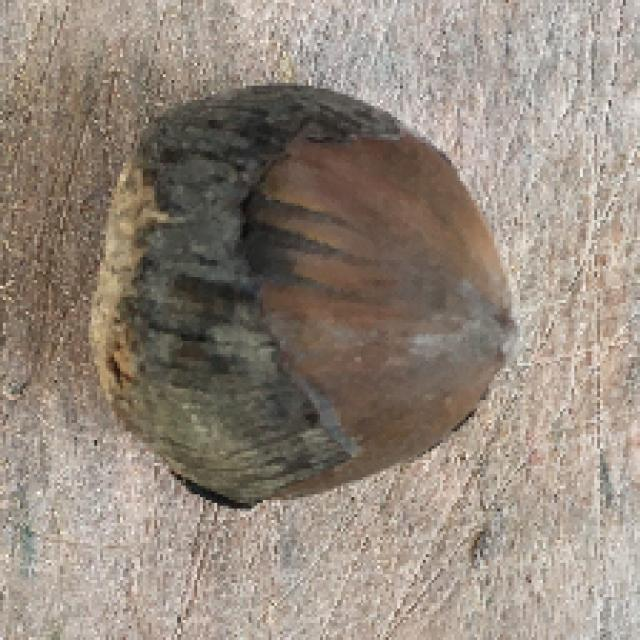damagedHazelnut: (89, 80, 525, 507)
